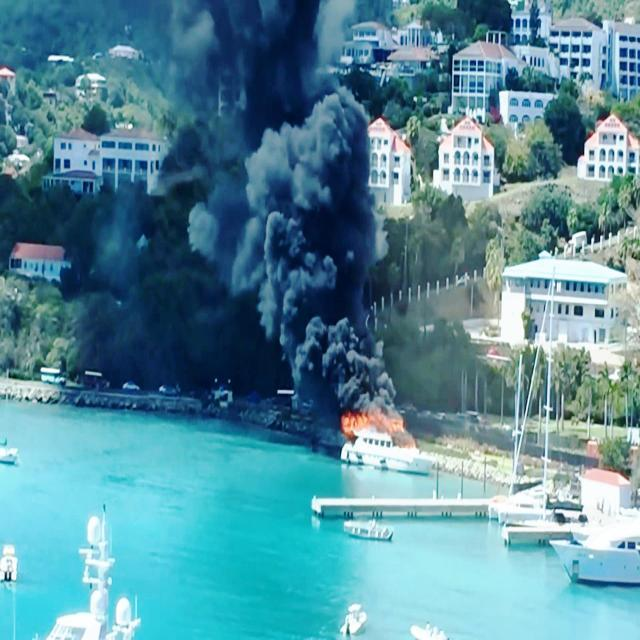Fire: (341, 412, 418, 452)
Smoke: (175, 0, 402, 406)
